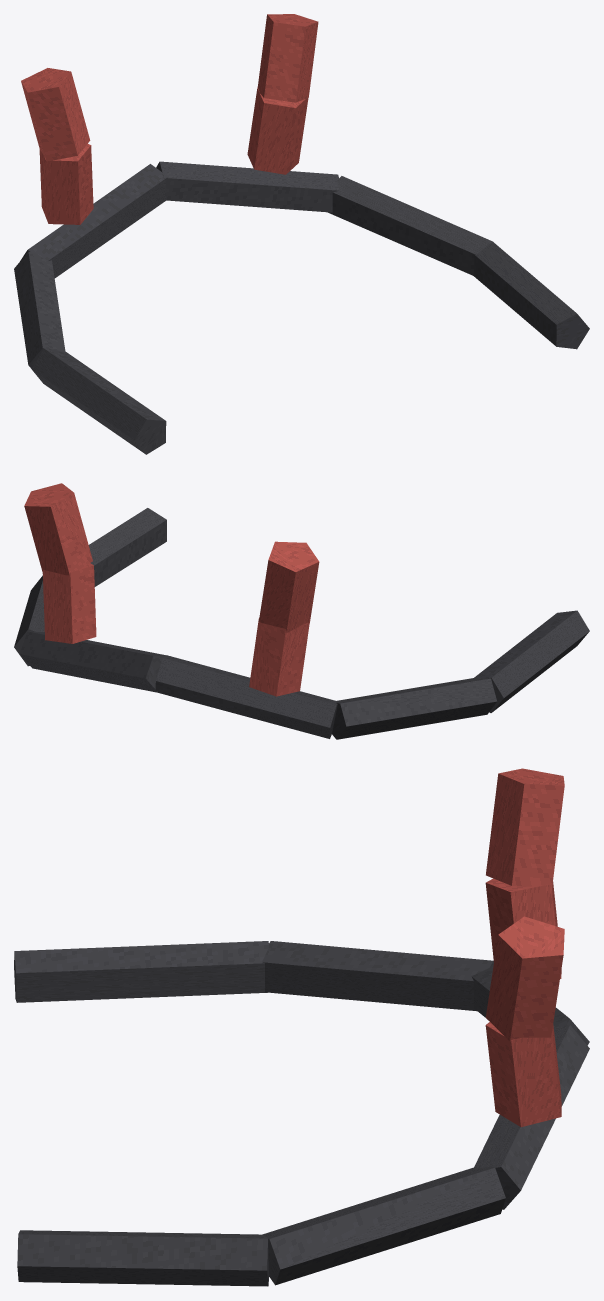
Rendered from devil_horn_headband.glb.
The picture shows the model from 3 angles, top to bottom: view 1: azimuth 30°, elevation 25°; view 2: azimuth 150°, elevation 25°; view 3: azimuth 270°, elevation 25°; orthographic projection. The views are drawn at different scales.
Visible parts, largest first — view 1: block_red devil horn 1 (×2), block_red devil horn 0 (×2), block_ornamental headband 3, block_ornamental headband 4, block_ornamental headband 0, block_ornamental headband 2, block_ornamental headband 5, block_ornamental headband 1; view 2: block_red devil horn 1 (×2), block_red devil horn 0 (×2), block_ornamental headband 2, block_ornamental headband 1, block_ornamental headband 3, block_ornamental headband 0, block_ornamental headband 5, block_ornamental headband 4; view 3: block_red devil horn 1 (×2), block_ornamental headband 0, block_ornamental headband 5, block_ornamental headband 4, block_ornamental headband 1, block_red devil horn 0 (×2), block_ornamental headband 3, block_ornamental headband 2.
Part boxes in pixels (left/top/right/bottom): block_red devil horn 1 (×2): left=21, top=14, right=318, bottom=161; block_red devil horn 0 (×2): left=39, top=87, right=308, bottom=224; block_ornamental headband 3: left=156, top=161, right=339, bottom=212; block_ornamental headband 4: left=328, top=176, right=492, bottom=275; block_ornamental headband 0: left=31, top=348, right=166, bottom=454; block_ornamental headband 2: left=20, top=164, right=167, bottom=278; block_ornamental headband 5: left=474, top=242, right=589, bottom=349; block_ornamental headband 1: left=14, top=251, right=65, bottom=368; block_red devil horn 1 (×2): left=24, top=483, right=319, bottom=633; block_red devil horn 0 (×2): left=42, top=563, right=309, bottom=696; block_ornamental headband 2: left=155, top=655, right=337, bottom=738; block_ornamental headband 1: left=332, top=678, right=496, bottom=739; block_ornamental headband 3: left=19, top=631, right=170, bottom=692; block_ornamental headband 0: left=474, top=610, right=589, bottom=712; block_ornamental headband 5: left=88, top=508, right=166, bottom=586; block_ornamental headband 4: left=14, top=575, right=44, bottom=666; block_red devil horn 1 (×2): left=485, top=768, right=564, bottom=1041; block_ornamental headband 0: left=14, top=941, right=268, bottom=1002; block_ornamental headband 5: left=17, top=1230, right=269, bottom=1286; block_ornamental headband 4: left=262, top=1166, right=505, bottom=1285; block_ornamental headband 1: left=262, top=941, right=493, bottom=1011; block_red devil horn 0 (×2): left=485, top=878, right=561, bottom=1127; block_ornamental headband 3: left=473, top=1025, right=589, bottom=1209; block_ornamental headband 2: left=471, top=964, right=589, bottom=1045.
Size of the model in its own units: 0.129 by 0.0564 by 0.1014.
Materials: 1 (1 with a texture image).
